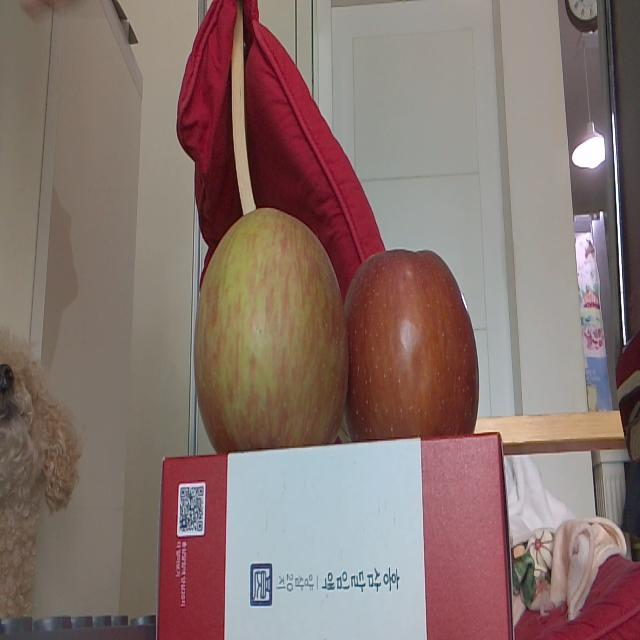apple: (192, 206, 348, 443), (352, 234, 483, 443)
